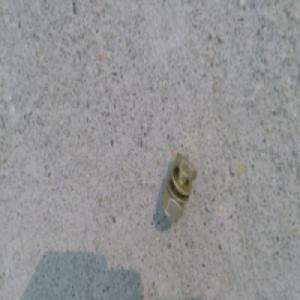BoltNutSet: (162, 150, 200, 221)
